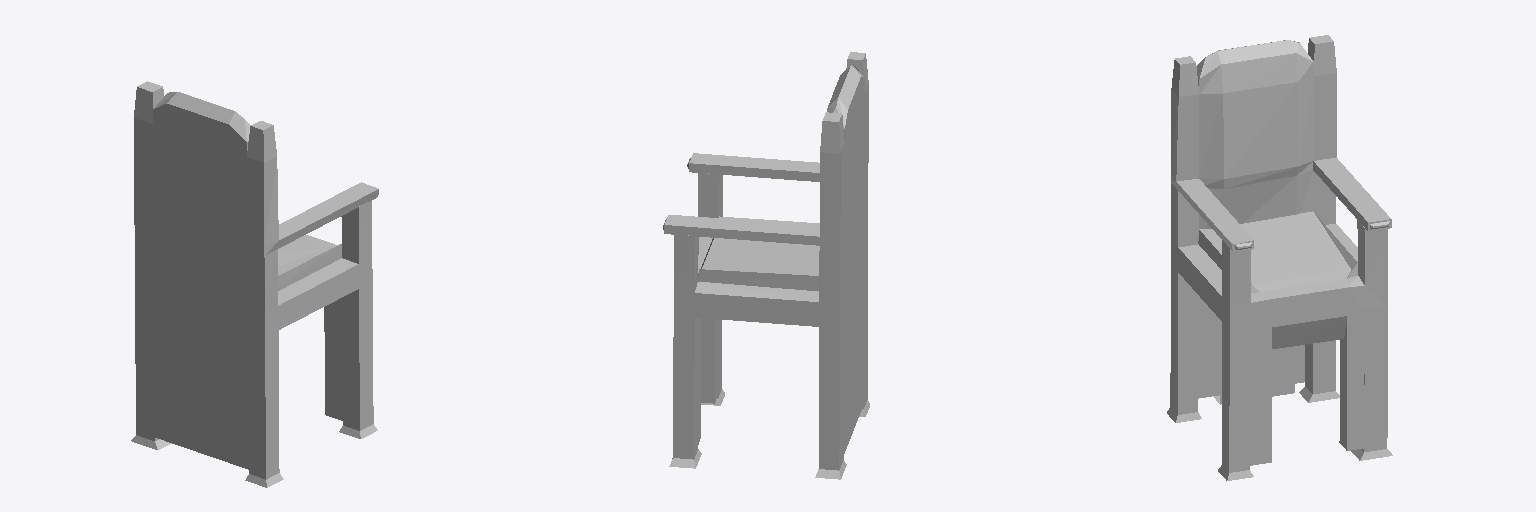
The model's file is троннн.obj.
3 views of the same model, side by side, from view 1: azimuth 30°, elevation 25°; view 2: azimuth 150°, elevation 25°; view 3: azimuth 270°, elevation 25° (orthographic).
Visible parts, largest first — view 1: Cube; view 2: Cube; view 3: Cube.
Part boxes in pixels (left/top/right/bottom): Cube: left=131, top=81, right=378, bottom=487; Cube: left=663, top=52, right=869, bottom=479; Cube: left=1167, top=35, right=1392, bottom=480.
Size of the model in its own units: 2.72 by 4.71 by 2.69.